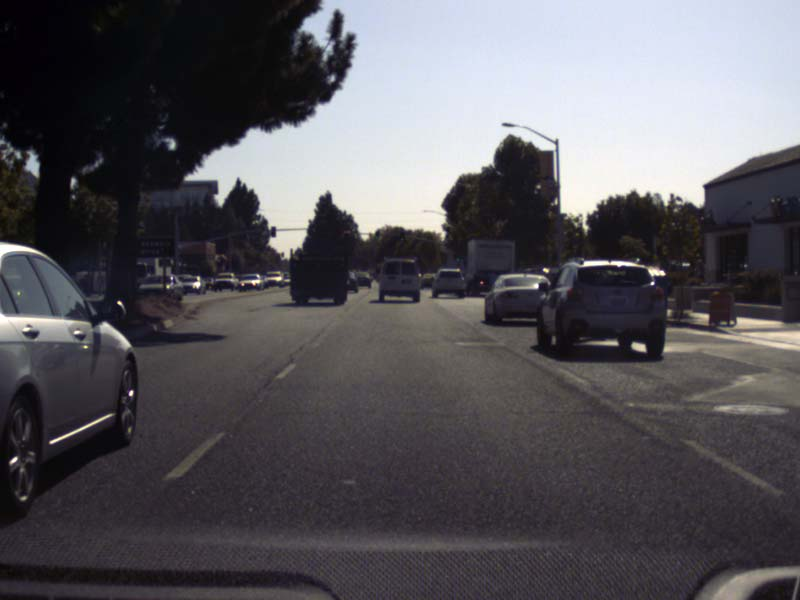Green: (399, 230, 404, 241)
